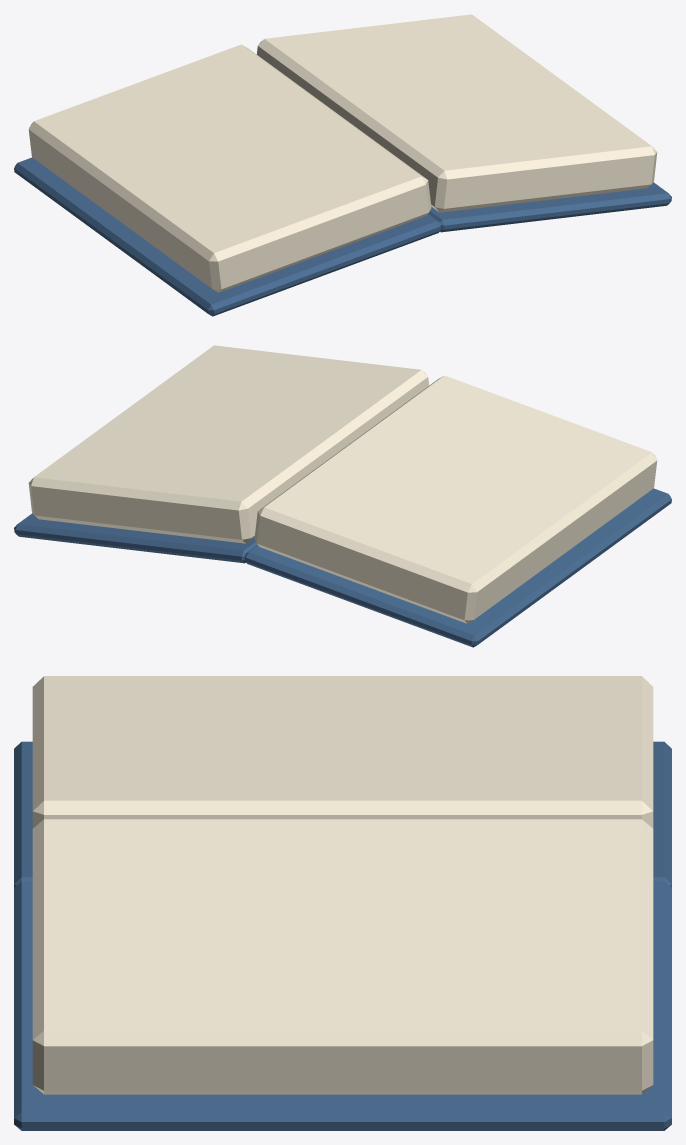
Rendered from open-book.glb.
3 renders of one model, top to bottom at view 1: azimuth 30°, elevation 25°; view 2: azimuth 150°, elevation 25°; view 3: azimuth 270°, elevation 25°, orthographic. The views are drawn at different scales.
Parts seen in each view (by area): view 1: open_book; view 2: open_book; view 3: open_book.
Part boxes in pixels (x1,y1,x2,y2): open_book: [14, 14, 671, 316]; open_book: [14, 345, 671, 647]; open_book: [14, 676, 671, 1130].
Size of the model in its own units: 0.4728 by 0.0804 by 0.35.
